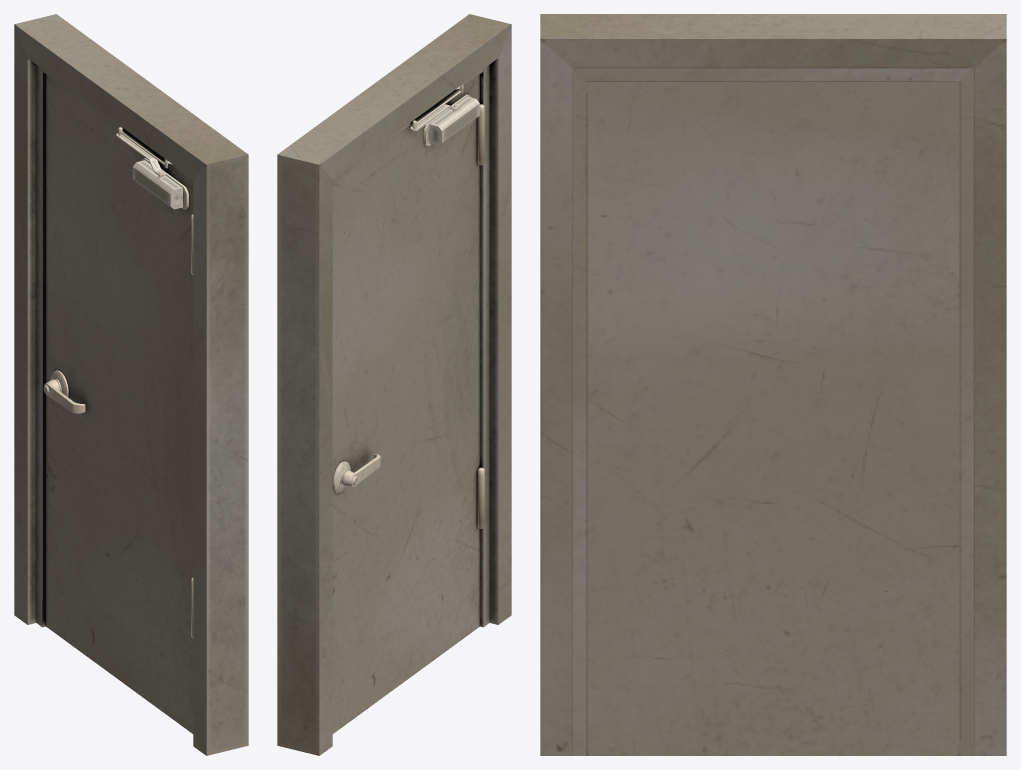
Rendered from Sketchfab_2024_03_23_12_12_52.fbx.
3 views of the same model, side by side, from view 1: azimuth 30°, elevation 25°; view 2: azimuth 150°, elevation 25°; view 3: azimuth 270°, elevation 25° (orthographic). The views are drawn at different scales.
Parts seen in each view (by area): view 1: J1_a03; view 2: J1_a03; view 3: J1_a03.
Part boxes in pixels (<box>): J1_a03: <box>14,14,248,755</box>; J1_a03: <box>277,14,511,755</box>; J1_a03: <box>540,14,1006,755</box>.
Size of the model in its own units: 20.77 by 261 by 154.
